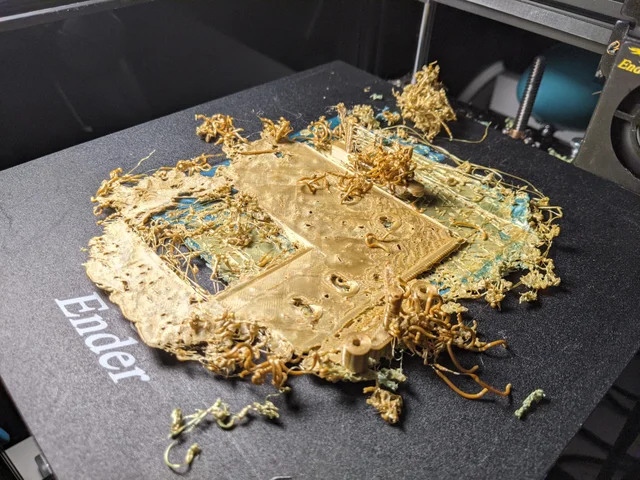Spaghetti: (35, 45, 578, 473)
